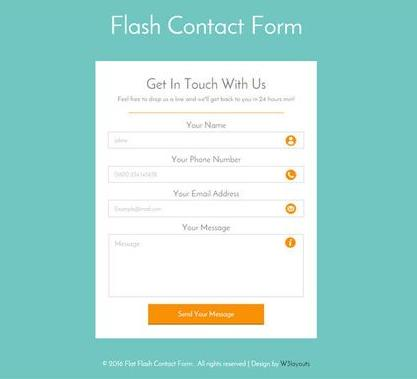button: (146, 302, 265, 326)
field: (107, 232, 306, 300), (106, 164, 306, 185), (106, 130, 305, 151), (106, 198, 305, 219)
field_with_label: (104, 222, 309, 302), (104, 119, 307, 153), (103, 188, 307, 221), (104, 154, 308, 186)
